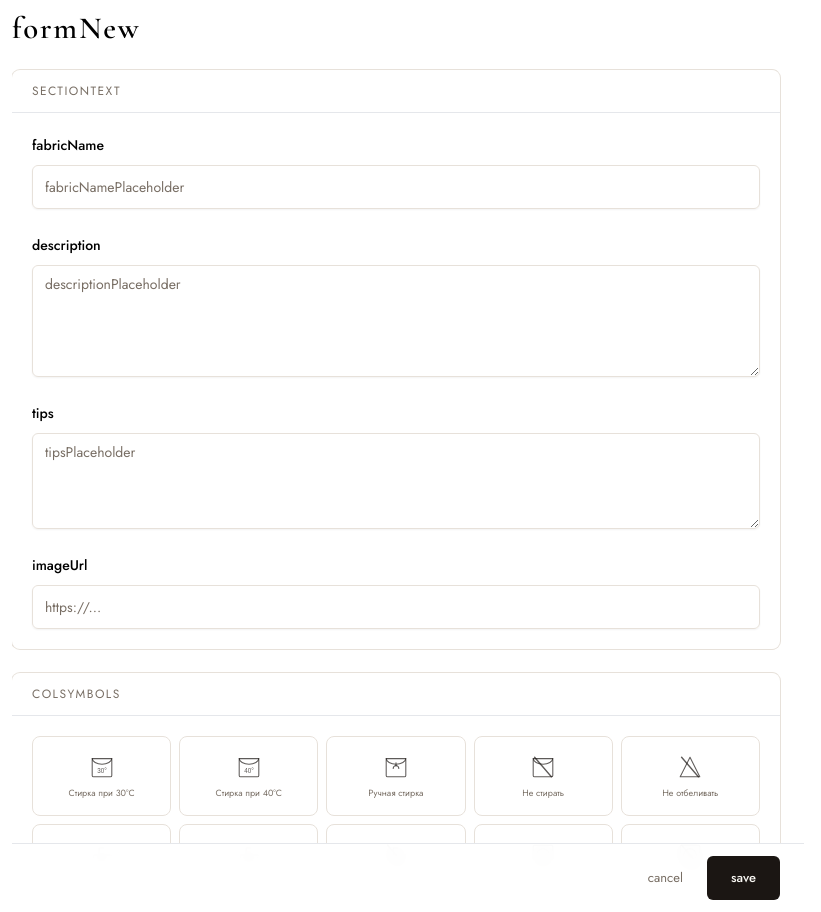
Test case: форма ухода — что уходит на сервер › без названия не отправляет вовсе
Click the button "save" at (744, 878), box [707, 856, 780, 900]
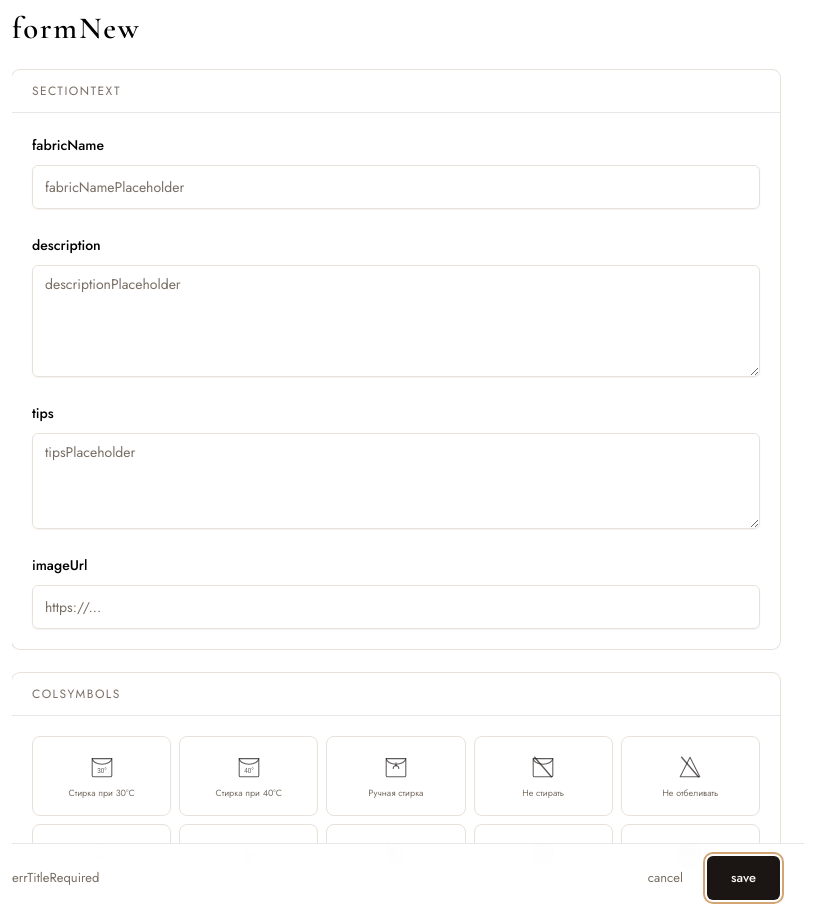
Check: the text "errTitleRequired" is shown, box [12, 868, 99, 888]
